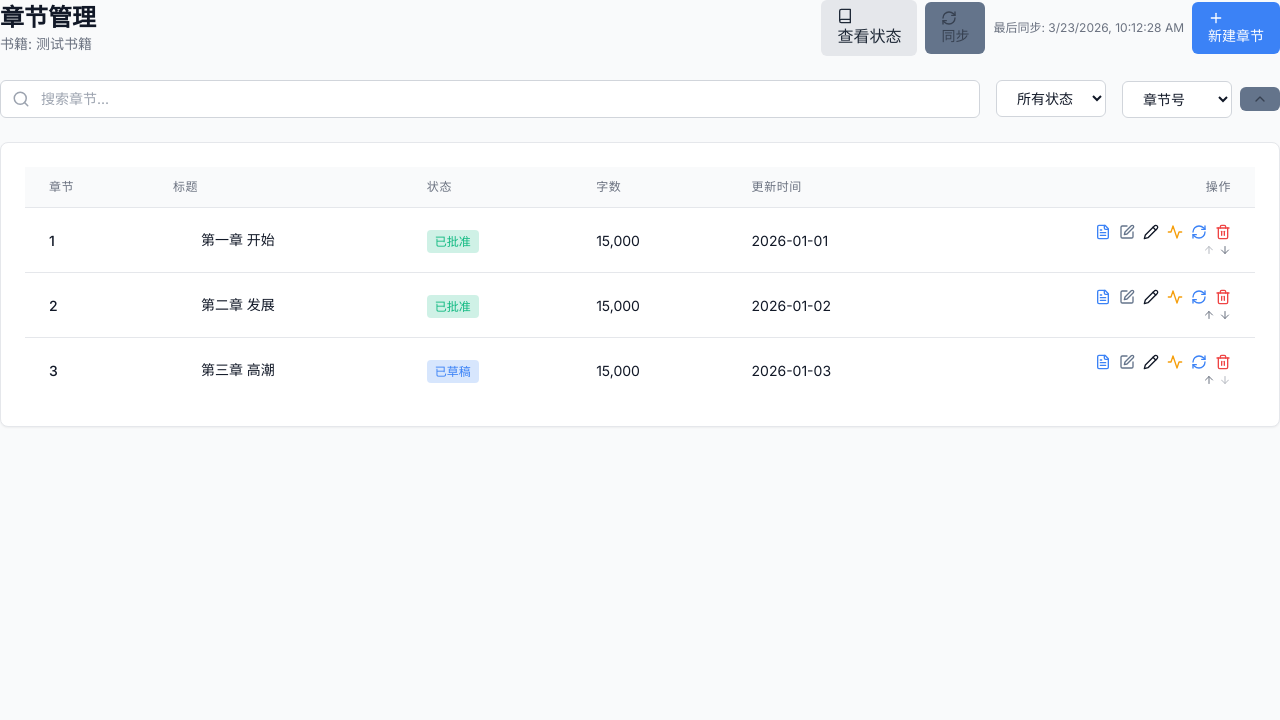
Test: Chapters Component › opens view chapter modal when clicking view button
Click the button titled "查看" in the row of "第一章 开始" at coordinates (1103, 232), box [1095,224,1111,240]
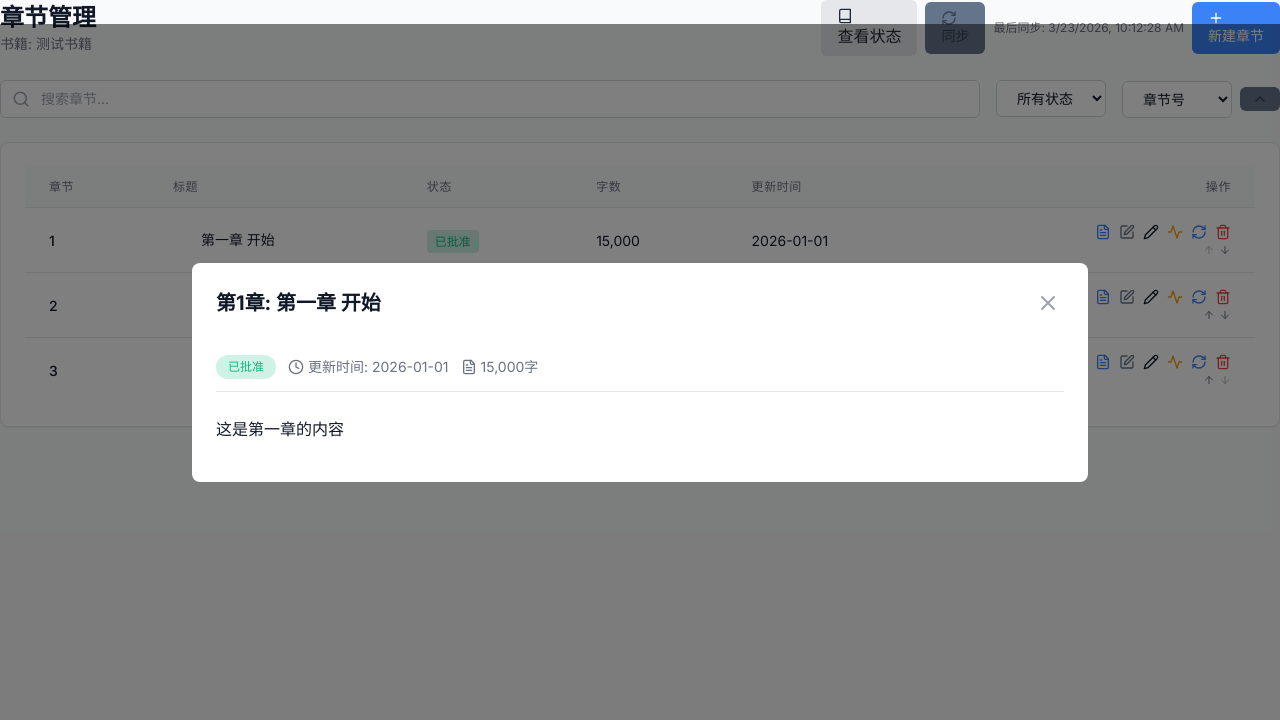
Expected: the text "第一章 开始" is shown, [201,230,275,250]
Now the text "这是第一章的内容" is shown, box [216,418,344,438]
